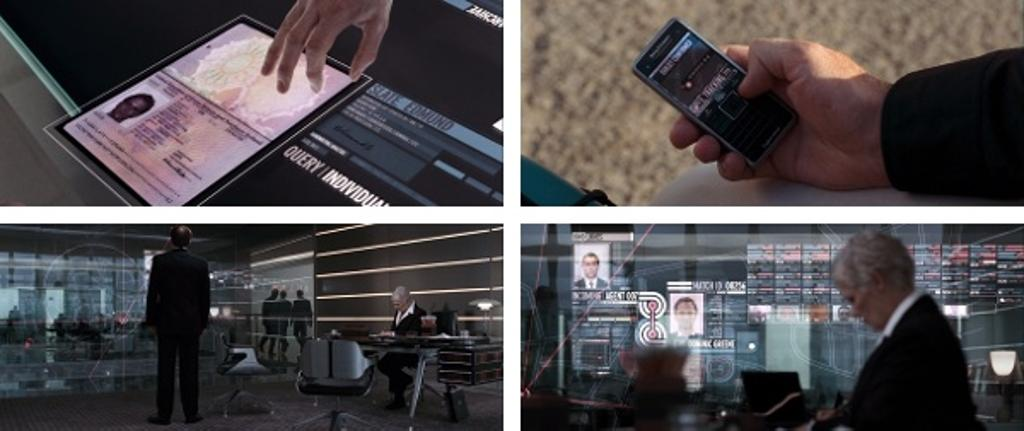face: (838, 264, 898, 332), (675, 304, 697, 331), (583, 256, 598, 277)
